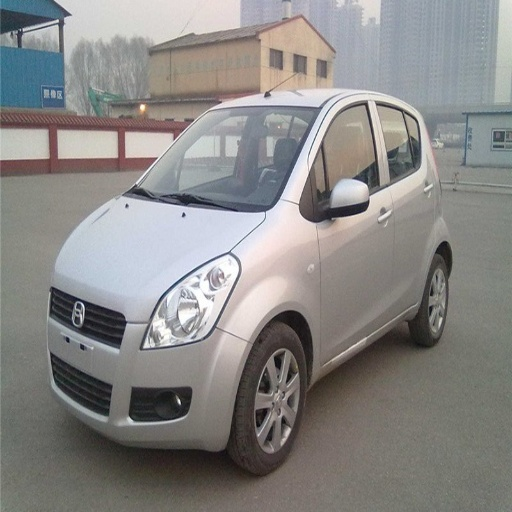front_bumper: (51, 291, 252, 447)
front_glass: (125, 110, 319, 211)
front_left_door: (306, 98, 393, 363)
